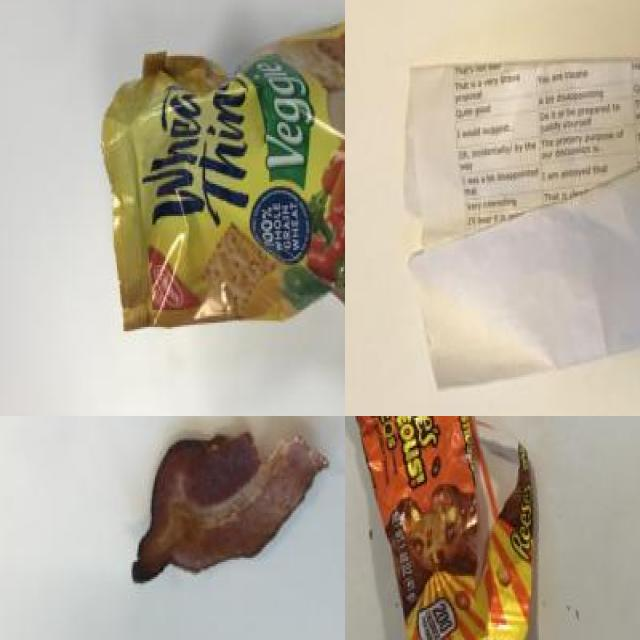compost: (0, 416, 345, 587)
paper: (402, 50, 640, 395)
trash: (91, 0, 345, 381), (345, 416, 567, 640)
